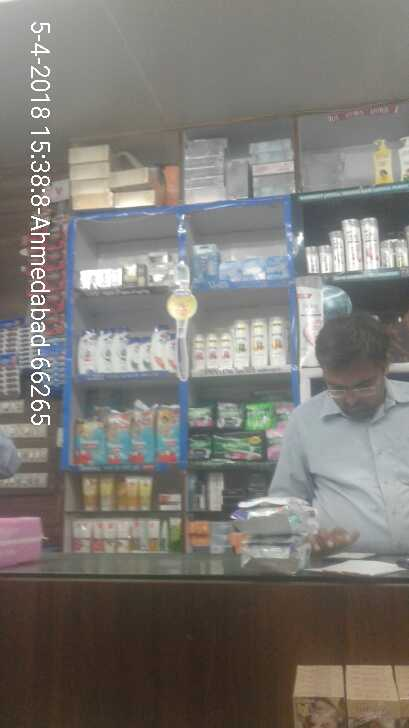venus: (190, 244, 217, 283), (265, 256, 288, 279), (218, 259, 241, 281), (242, 258, 265, 280)
